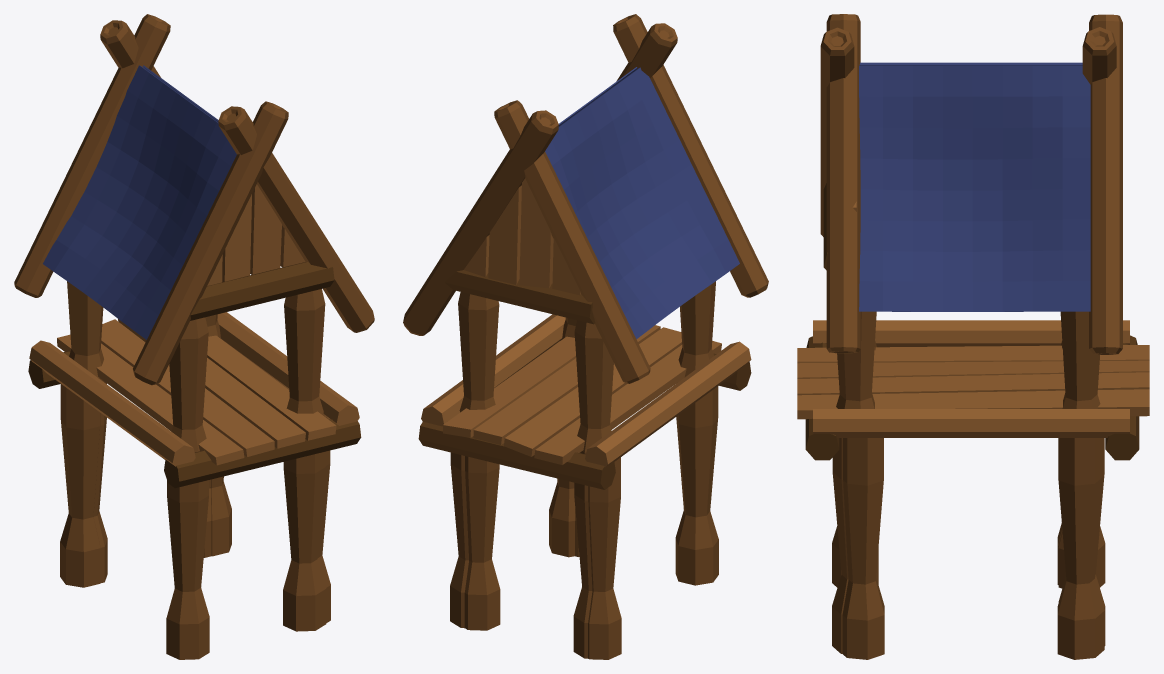
File: B_B_TowerBlue.fbx
3 renders of one model, left to right at view 1: azimuth 30°, elevation 25°; view 2: azimuth 150°, elevation 25°; view 3: azimuth 270°, elevation 25°, orthographic. The views are drawn at different scales.
Visible parts, largest first — view 1: B_B_TowerBlue; view 2: B_B_TowerBlue; view 3: B_B_TowerBlue.
Boxes of the visible parts, x1,y1,x2,y2 form: B_B_TowerBlue: [14, 14, 374, 659]; B_B_TowerBlue: [403, 14, 768, 659]; B_B_TowerBlue: [797, 14, 1149, 659].
Size of the model in its own units: 345 by 733 by 394.
